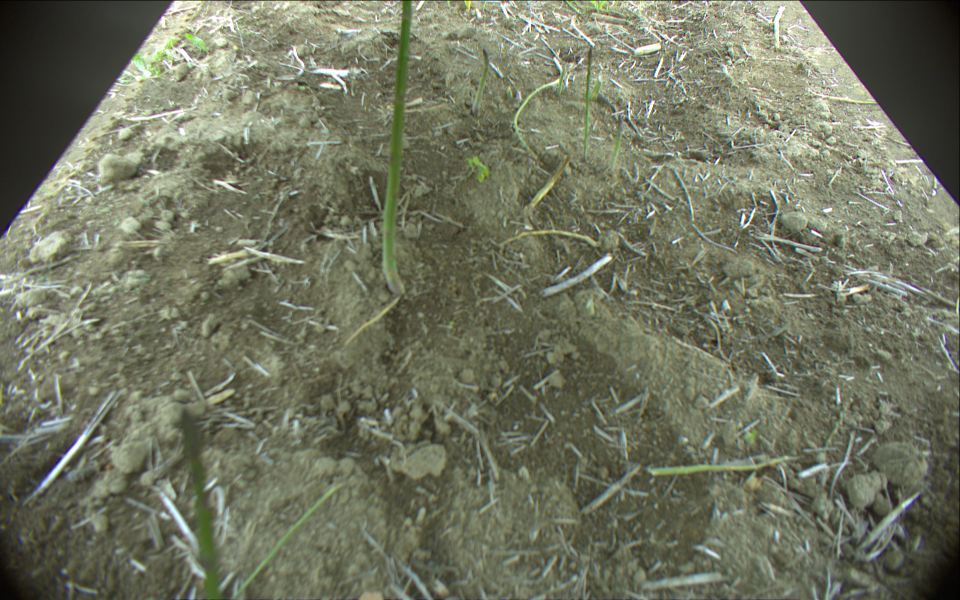aspa: (234, 482, 347, 600), (381, 1, 413, 298), (176, 407, 225, 600), (512, 53, 568, 164), (650, 453, 806, 477), (471, 46, 491, 121), (581, 45, 594, 160), (608, 114, 625, 174), (774, 6, 786, 50), (557, 66, 566, 93)
